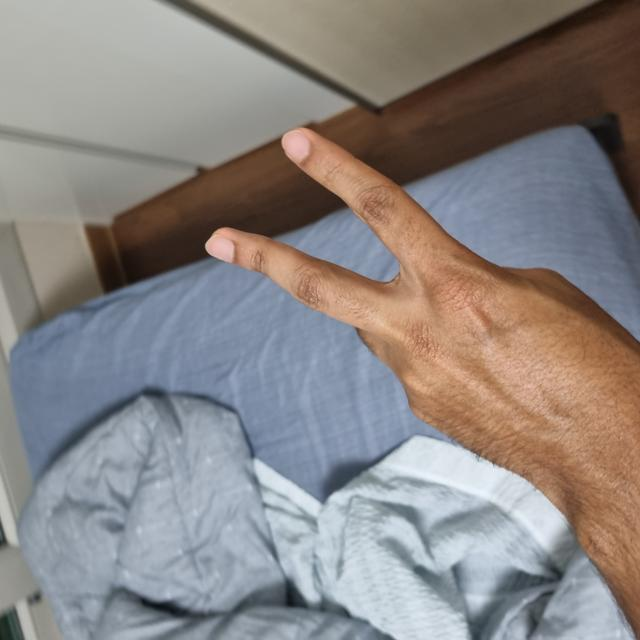Scissors: (121, 210, 512, 639)
